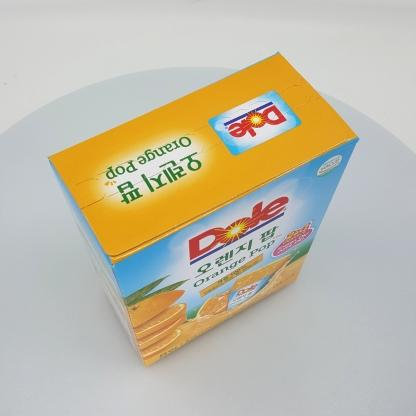--------496ML: (47, 51, 360, 367)
